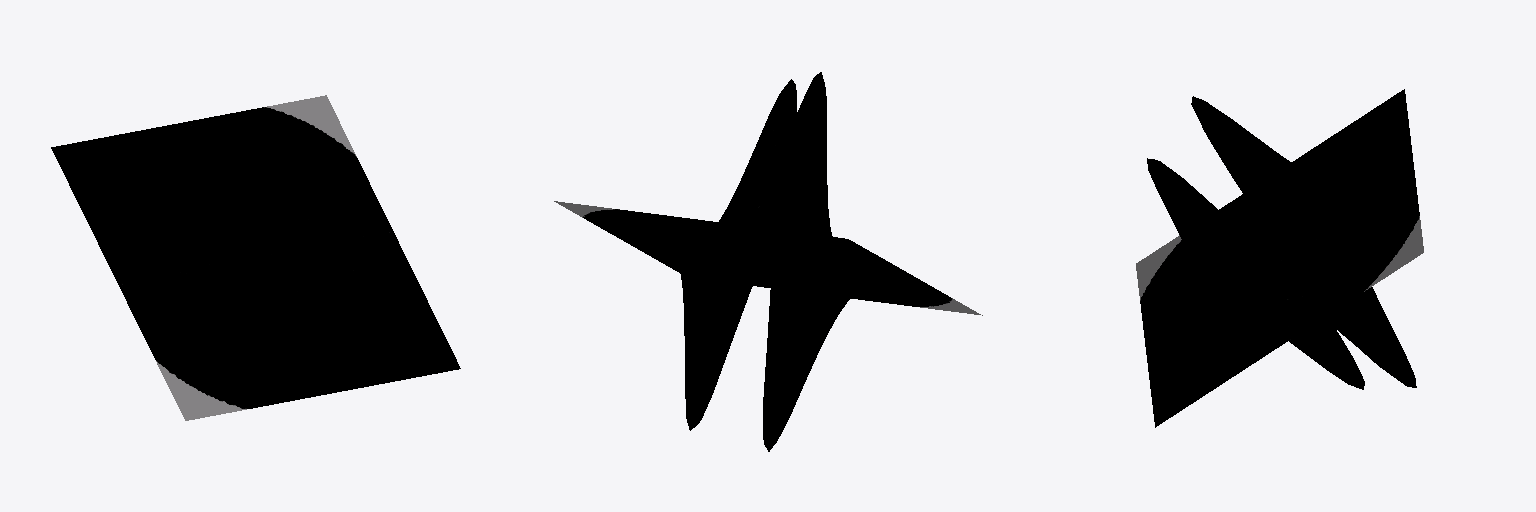
3 renders of one model, left to right at view 1: azimuth 30°, elevation 25°; view 2: azimuth 150°, elevation 25°; view 3: azimuth 270°, elevation 25°, orthographic.
Visible parts, largest first — view 1: node_id3_node_id3Mesh; view 2: node_id3_node_id3Mesh; view 3: node_id3_node_id3Mesh.
Boxes of the visible parts, x1,y1,x2,y2 form: node_id3_node_id3Mesh: [51, 95, 460, 420]; node_id3_node_id3Mesh: [554, 72, 982, 451]; node_id3_node_id3Mesh: [1136, 89, 1423, 427].
Bounding box in the file's own units: 0.0051 × 0.0053 × 0.0045.
Materials: 1 (1 with a texture image).